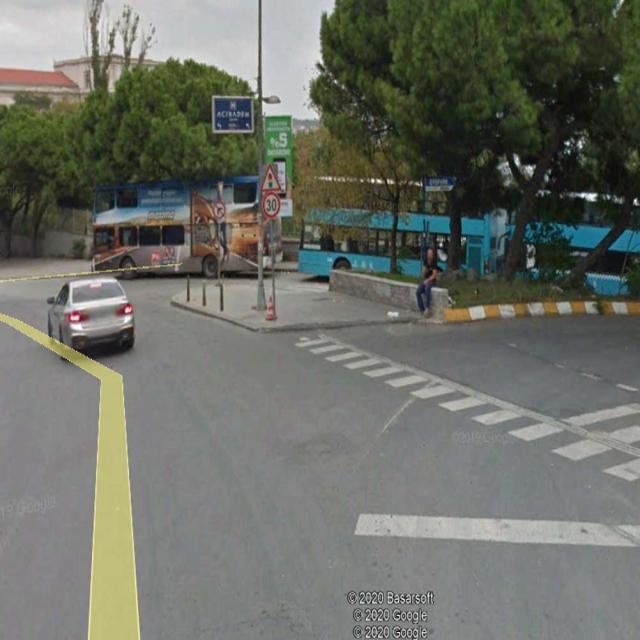30: (262, 192, 281, 218)
sagadonulmez: (212, 202, 225, 218)
